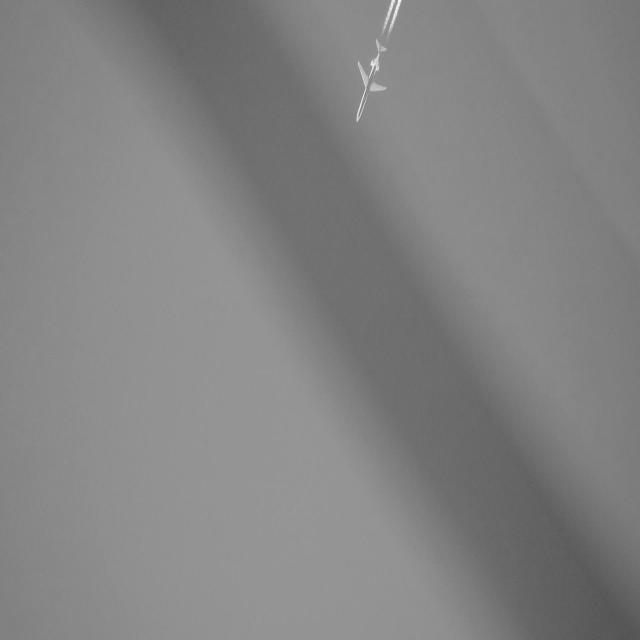aeroplane: (354, 33, 390, 133)
